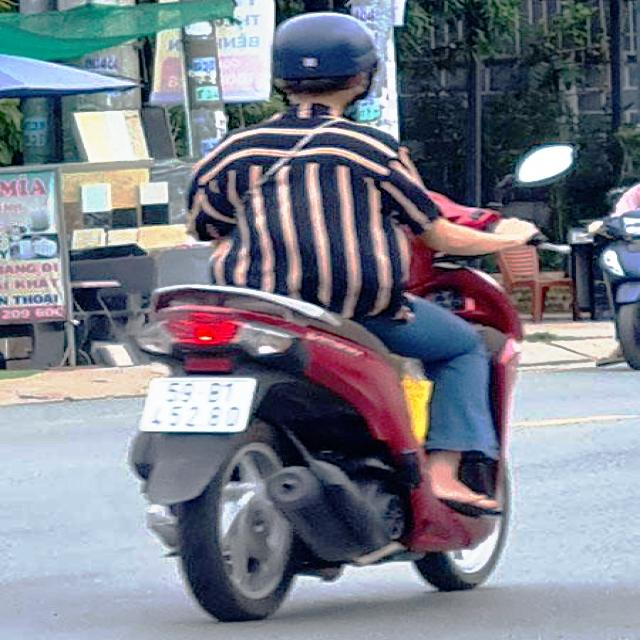license_plate: (141, 378, 257, 431)
